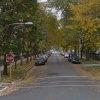Tree: (4, 2, 47, 52)
